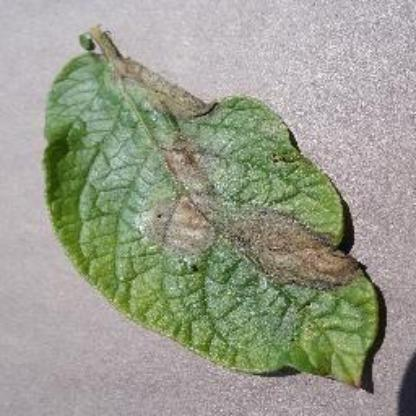Late-Blight: (23, 29, 380, 388)
